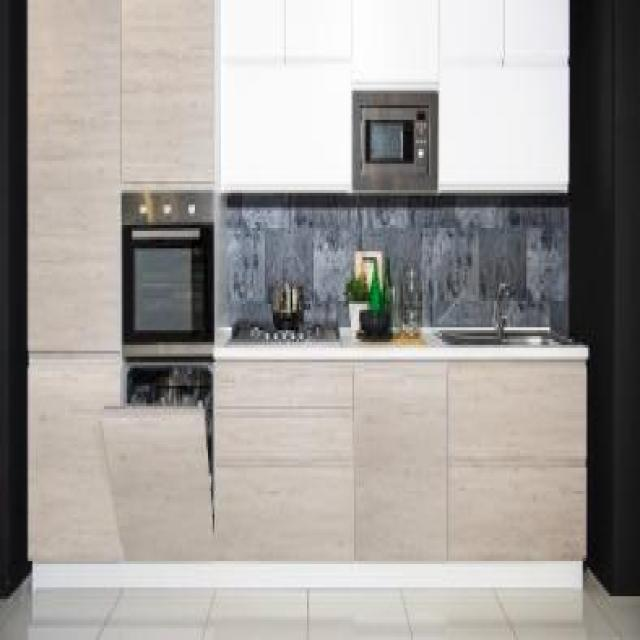dishwasher: (99, 351, 213, 558)
